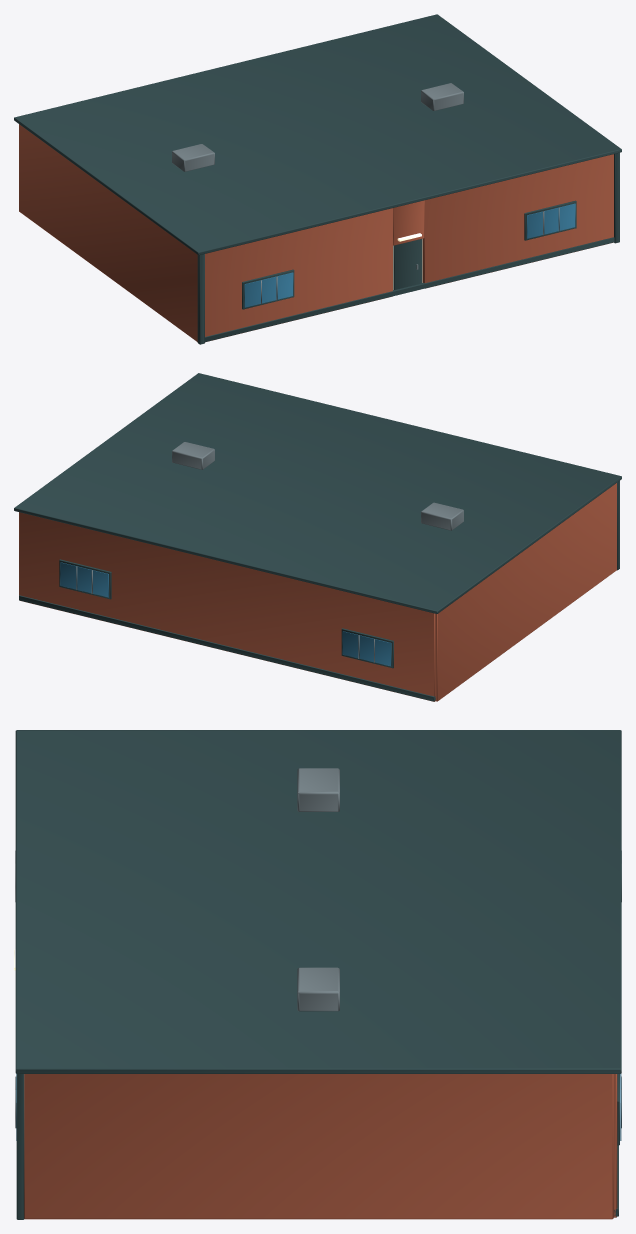
File: north-secondary-lab.glb
3 renders of one model, top to bottom at view 1: azimuth 30°, elevation 25°; view 2: azimuth 150°, elevation 25°; view 3: azimuth 270°, elevation 25°, orthographic. The views are drawn at different scales.
Visible parts, largest first — view 1: roof_0_trim, shell_0_wall, shell_0_trim, shell_0_blue, roof_0_metal, door_0_trim; view 2: roof_0_trim, shell_0_wall, shell_0_trim, shell_0_blue, roof_0_metal; view 3: roof_0_trim, shell_0_wall, roof_0_metal, shell_0_trim.
Boxes of the visible parts, left/top/right/bottom form: roof_0_trim: left=14, top=14, right=621, bottom=255; shell_0_wall: left=19, top=124, right=613, bottom=342; shell_0_trim: left=197, top=152, right=619, bottom=344; shell_0_blue: left=244, top=203, right=575, bottom=307; roof_0_metal: left=172, top=83, right=463, bottom=171; door_0_trim: left=393, top=239, right=421, bottom=289; roof_0_trim: left=14, top=373, right=621, bottom=613; shell_0_wall: left=19, top=483, right=616, bottom=701; shell_0_trim: left=19, top=481, right=619, bottom=701; shell_0_blue: left=60, top=562, right=391, bottom=666; roof_0_metal: left=172, top=442, right=463, bottom=530; roof_0_trim: left=15, top=730, right=621, bottom=1073; shell_0_wall: left=24, top=1074, right=617, bottom=1219; roof_0_metal: left=297, top=768, right=339, bottom=1011; shell_0_trim: left=16, top=1074, right=619, bottom=1219.
Size of the model in its own units: 24.5 by 5.8 by 18.56.
